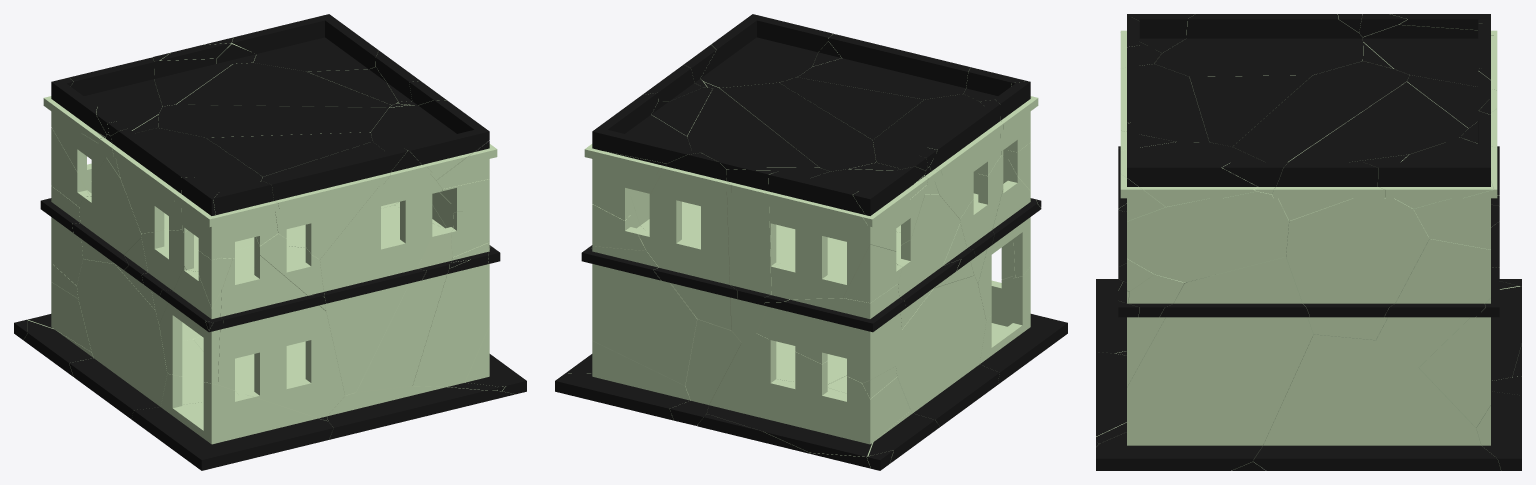
Rendered from small_house_02_d.fbx.
3 views of the same model, side by side, from view 1: azimuth 30°, elevation 25°; view 2: azimuth 150°, elevation 25°; view 3: azimuth 270°, elevation 25° (orthographic). The views are drawn at different scales.
Parts seen in each view (by area): view 1: Cube.005_cell.026, Cube.005_cell.010, Cube.005_cell.002, Cube.005_cell.041, Cube.005_cell.013, Cube.005_cell.033, Cube.005_cell.055, Cube.005_cell.020, Cube.005_cell.052, Cube.005_cell.024, Cube.005_cell.009, Cube.005_cell.053 (+26 smaller); view 2: Cube.005_cell.008, Cube.005_cell.024, Cube.005_cell.037, Cube.005_cell.002, Cube.005_cell.019, Cube.005_cell.013, Cube.005_cell.016, Cube.005_cell.034, Cube.005_cell.032, Cube.005_cell.033, Cube.005_cell.052, Cube.005_cell.041 (+23 smaller); view 3: Cube.005_cell.045, Cube.005_cell.050, Cube.005_cell.014, Cube.005_cell.029, Cube.005_cell.013, Cube.005_cell.005, Cube.005_cell.052, Cube.005_cell.053, Cube.005_cell.032, Cube.005_cell.024, Cube.005_cell.038, Cube.005_cell.033 (+20 smaller).
Boxes of the visible parts, x1,y1,x2,y2 form: Cube.005_cell.026: [320, 150, 442, 395]; Cube.005_cell.010: [217, 255, 344, 420]; Cube.005_cell.002: [69, 259, 238, 419]; Cube.005_cell.041: [131, 374, 333, 470]; Cube.005_cell.013: [110, 128, 262, 233]; Cube.005_cell.033: [261, 141, 406, 259]; Cube.005_cell.055: [356, 192, 453, 392]; Cube.005_cell.020: [412, 243, 497, 390]; Cube.005_cell.052: [158, 104, 388, 137]; Cube.005_cell.024: [51, 57, 162, 196]; Cube.005_cell.009: [141, 229, 325, 323]; Cube.005_cell.053: [176, 62, 391, 107]; Cube.005_cell.008: [706, 333, 910, 456]; Cube.005_cell.024: [764, 169, 926, 302]; Cube.005_cell.037: [638, 153, 736, 330]; Cube.005_cell.002: [827, 276, 999, 426]; Cube.005_cell.019: [581, 246, 697, 385]; Cube.005_cell.013: [873, 94, 1003, 218]; Cube.005_cell.016: [756, 284, 905, 382]; Cube.005_cell.034: [726, 167, 829, 342]; Cube.005_cell.032: [700, 14, 832, 87]; Cube.005_cell.033: [797, 34, 970, 99]; Cube.005_cell.052: [720, 82, 876, 171]; Cube.005_cell.041: [980, 267, 1067, 384]; Cube.005_cell.045: [1096, 257, 1313, 470]; Cube.005_cell.050: [1253, 334, 1500, 470]; Cube.005_cell.014: [1286, 154, 1429, 340]; Cube.005_cell.029: [1127, 191, 1288, 282]; Cube.005_cell.013: [1154, 14, 1363, 76]; Cube.005_cell.005: [1376, 239, 1490, 367]; Cube.005_cell.052: [1232, 61, 1409, 162]; Cube.005_cell.053: [1288, 82, 1467, 162]; Cube.005_cell.032: [1120, 123, 1264, 206]; Cube.005_cell.024: [1362, 23, 1499, 205]; Cube.005_cell.038: [1364, 111, 1493, 208]; Cube.005_cell.033: [1120, 45, 1208, 142].
Size of the model in its own units: 387 by 291 by 387.
